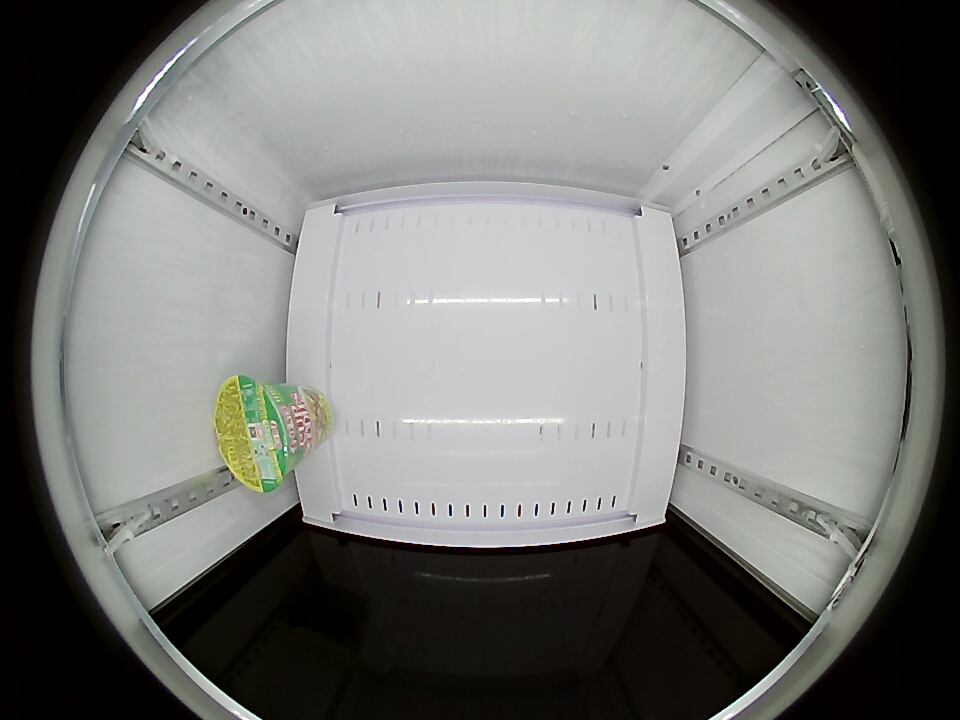heweidao2: (214, 375, 303, 492)
